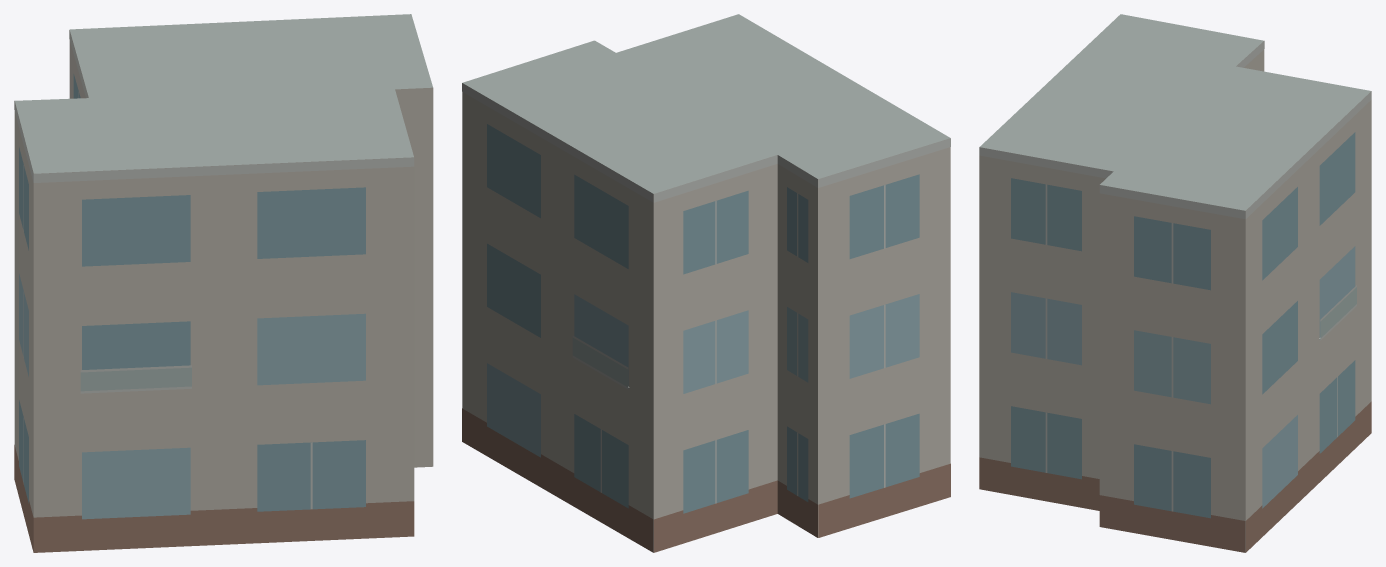
File: survey-upis-32470083.glb
3 views of the same model, side by side, from view 1: azimuth 30°, elevation 25°; view 2: azimuth 150°, elevation 25°; view 3: azimuth 270°, elevation 25° (orthographic). The views are drawn at different scales.
Visible parts, largest first — view 1: survey-upis-32470083.tmp; view 2: survey-upis-32470083.tmp; view 3: survey-upis-32470083.tmp.
Boxes of the visible parts, x1,y1,x2,y2 form: survey-upis-32470083.tmp: (14,14,433,552); survey-upis-32470083.tmp: (462,14,950,552); survey-upis-32470083.tmp: (979,14,1371,552).
Size of the model in its own units: 12.19 by 9.87 by 10.26.
